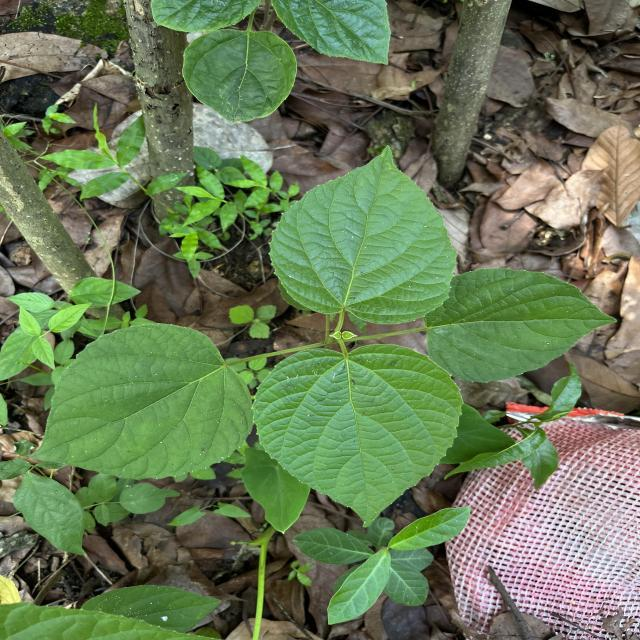Clerodendrum infortunatum: (249, 342, 465, 530), (28, 322, 256, 481), (266, 142, 460, 326), (422, 267, 619, 384)
